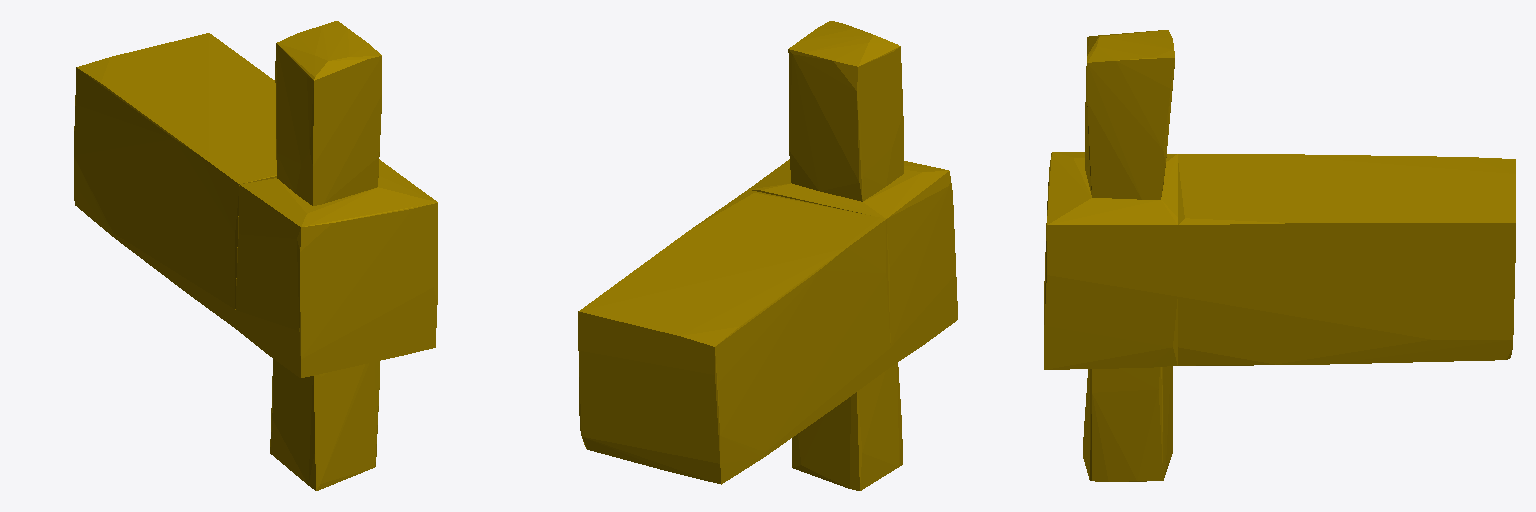
robot.urdf — blob949:
<robot name="blob949">
  <link name="random_obj_949">
    <contact>
      <lateral_friction value="1.0"/>
      <rolling_friction value="0.0"/>
      <inertia_scaling value="3.0"/>
      <contact_cfm value="0.0"/>
      <contact_erp value="1.0"/>
    </contact>
    <inertial>
      <origin rpy="0 0 0" xyz="0 0 0"/>
      <mass value="0.1"/>
      <inertia ixx="1" ixy="0" ixz="0" iyy="1" iyz="0" izz="0"/>
    </inertial>
    <visual>
      <origin rpy="0 0 0" xyz="0 0 0"/>
      <geometry>
        <mesh filename="949.obj" scale="0.015 0.015 0.015"/>
      </geometry>
      <material name="blockmat">
        <color rgba="0.66 0.54 0.02 1"/>
      </material>
    </visual>
    <collision>
      <origin rpy="0 0 0" xyz="0 0 0"/>
      <geometry>
        <mesh filename="949.obj" scale="0.015 0.015 0.015"/>
      </geometry>
    </collision>
  </link>
</robot>

--- What the picture shows (computed from the rendered views, not written in the file) ---
The picture shows the robot from 3 angles, left to right: view 1: azimuth 30°, elevation 25°; view 2: azimuth 150°, elevation 25°; view 3: azimuth 270°, elevation 25°; orthographic projection.
Model blob949 with 1 links and 0 joints (none), rooted at random_obj_949, posed every joint at zero.
Visible links, largest first — view 1: random_obj_949; view 2: random_obj_949; view 3: random_obj_949.
Boxes of the visible links, box(x1,y1,x2,y2) form: random_obj_949: box(74, 21, 437, 490); random_obj_949: box(578, 21, 957, 490); random_obj_949: box(1044, 30, 1515, 481).
Size in the robot's own frame: 0.0319 by 0.0915 by 0.0929 metres.
Meshes: 1 distinct files referenced, 1 mesh visuals loaded (1 OBJ).